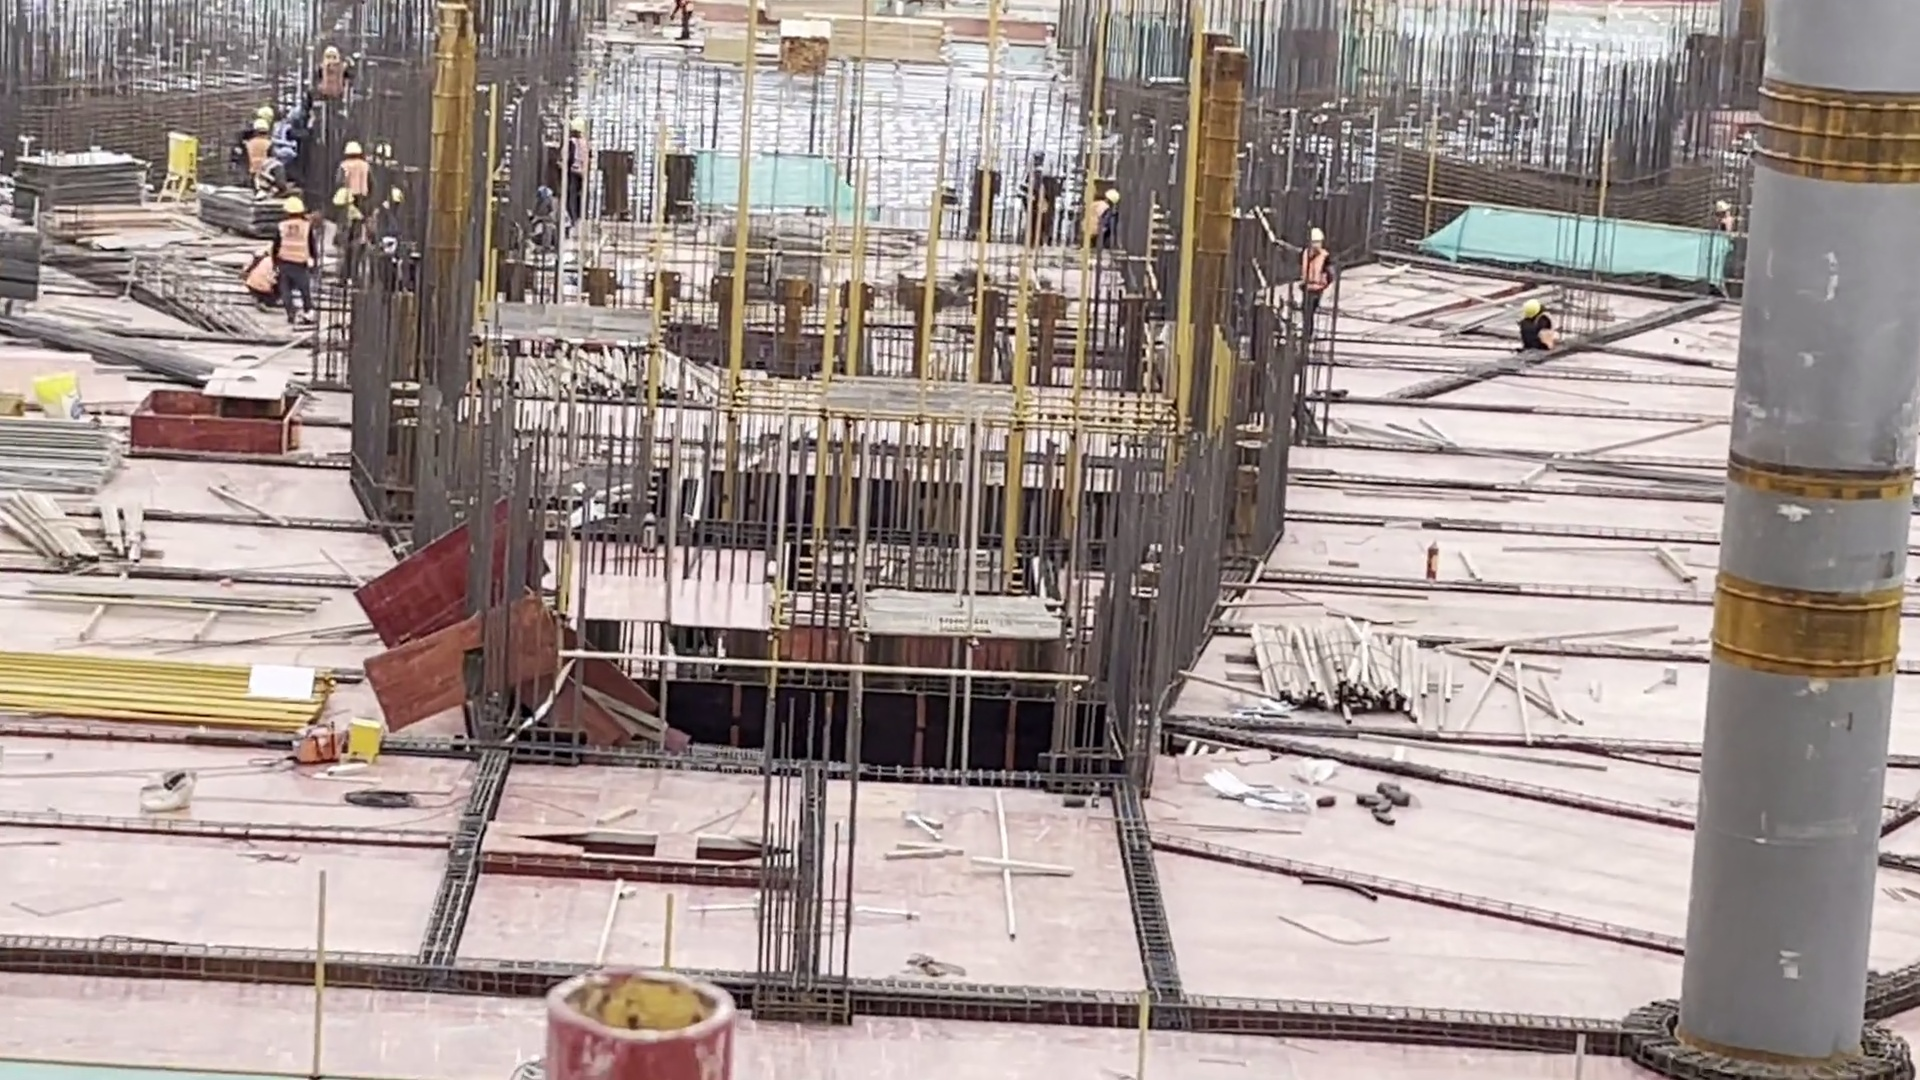helmet: (279, 192, 309, 215), (1516, 298, 1544, 320), (569, 114, 591, 134), (342, 139, 366, 155), (318, 46, 342, 63), (1304, 226, 1328, 242), (1714, 196, 1733, 216), (251, 119, 275, 133), (534, 185, 556, 200), (332, 189, 354, 205), (1103, 188, 1123, 203), (1031, 147, 1048, 163)
person: (1270, 214, 1336, 353), (262, 191, 326, 321), (557, 113, 601, 229), (297, 40, 358, 121), (333, 145, 383, 245), (1078, 189, 1137, 263), (525, 185, 580, 252), (332, 192, 372, 282), (1518, 292, 1561, 365), (274, 105, 315, 182), (1021, 147, 1053, 240), (237, 109, 272, 183), (257, 147, 297, 192)
vest: (1299, 246, 1331, 293), (275, 222, 311, 261), (338, 161, 371, 196), (246, 255, 273, 291), (240, 137, 269, 170), (570, 138, 589, 171)
